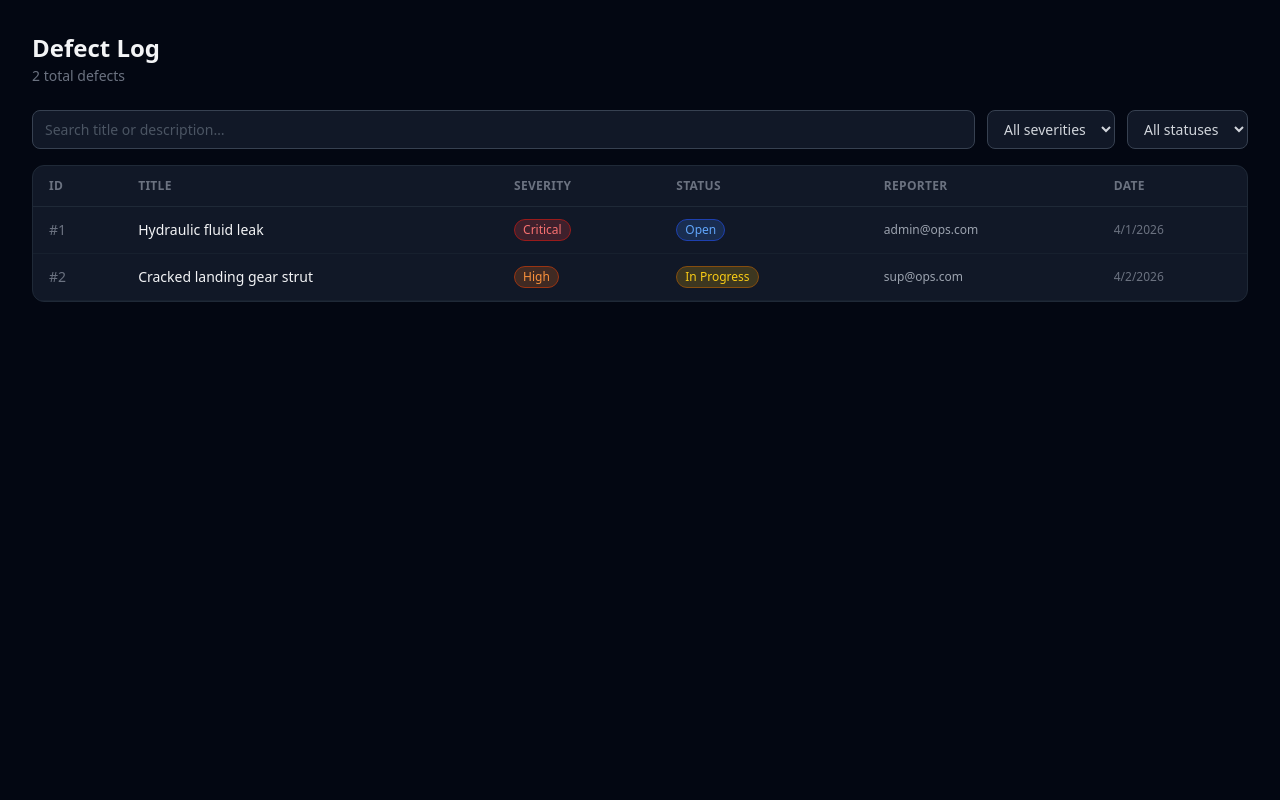
Test: DefectLog — slide-over detail panel › opens the slide-over with full description when a row is clicked
Click the text "Hydraulic fluid leak" at [201, 230], box [122,206,498,254]
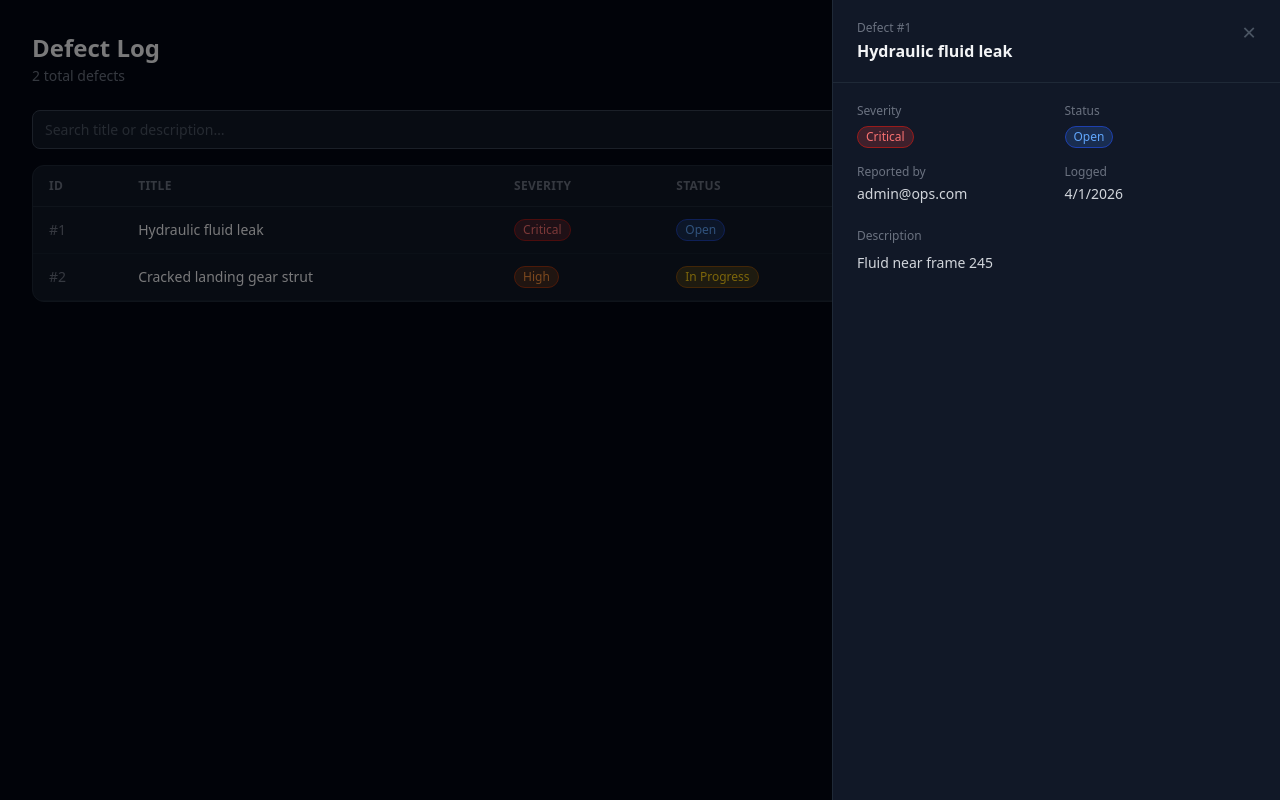
Expected: the text "Fluid near frame 245" is shown, [857,253,993,272]
